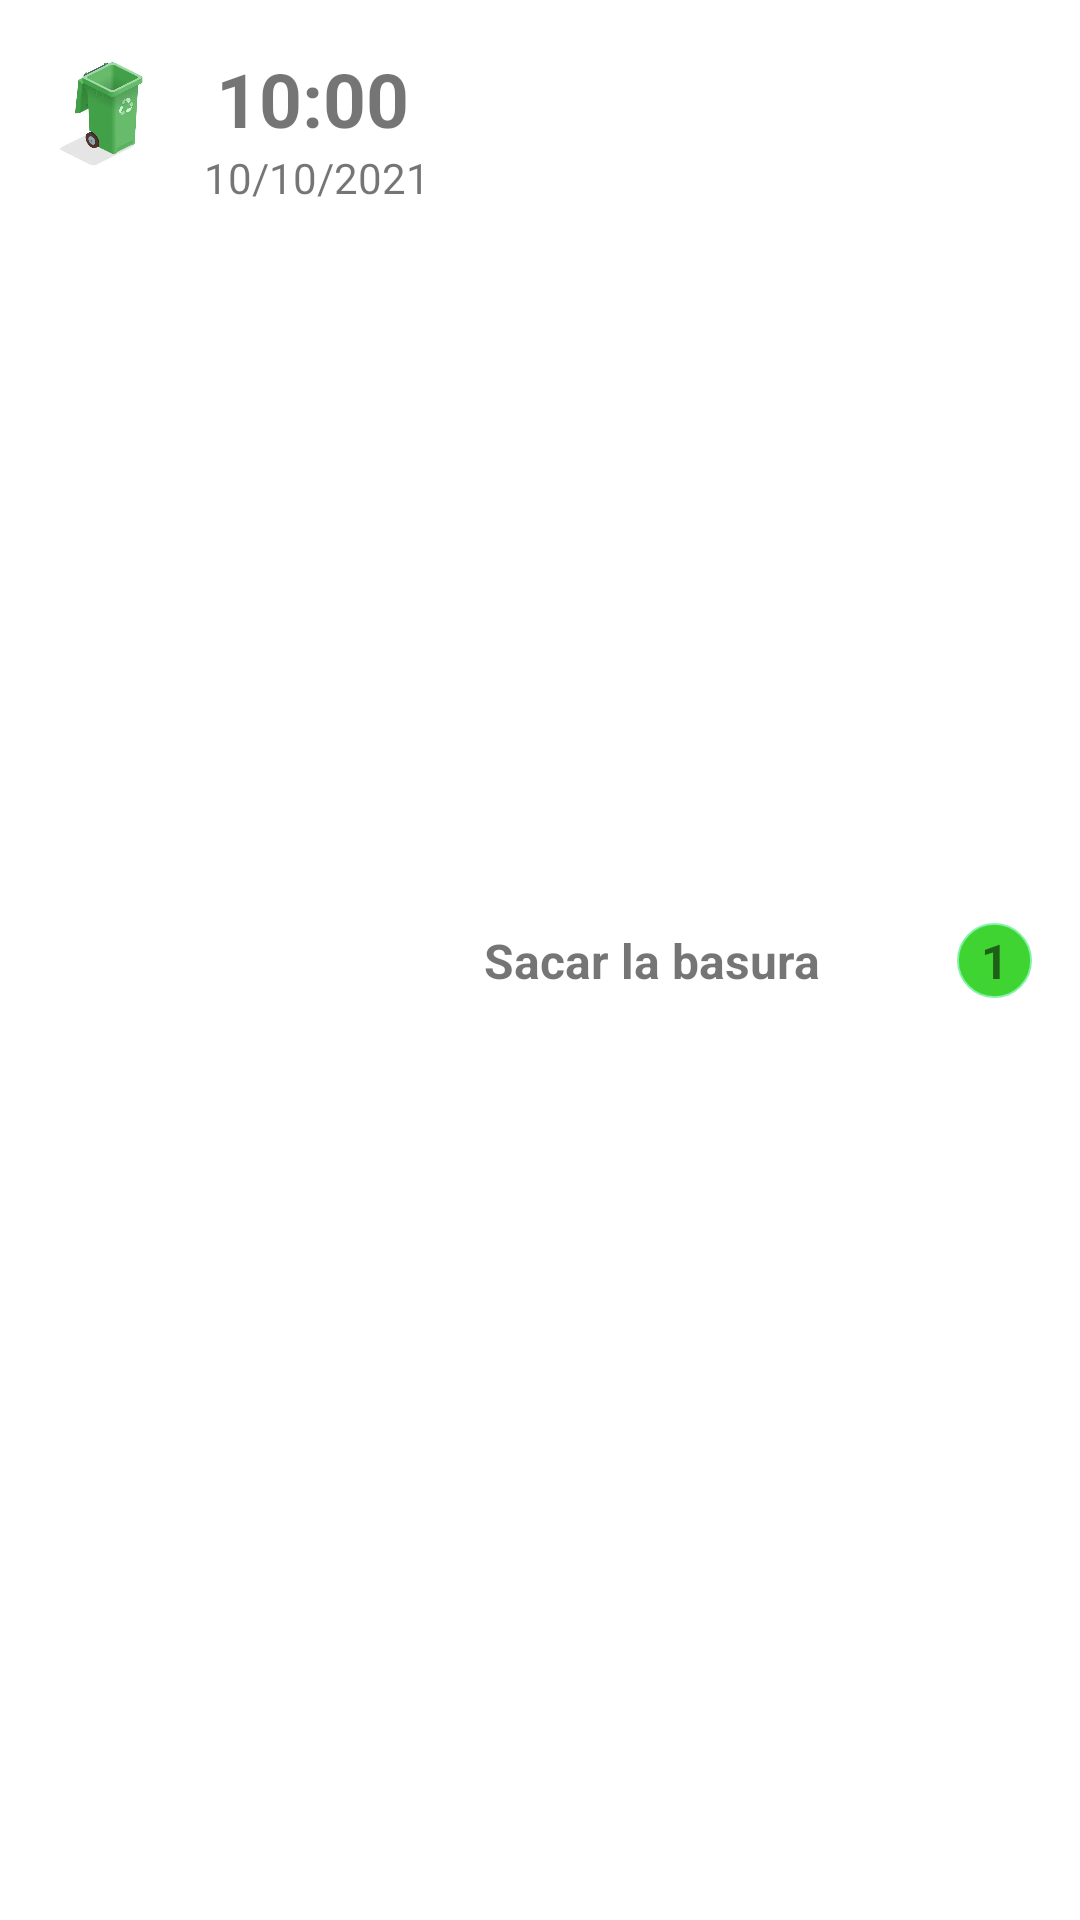

Point at icon controls on the screen. Image size 1080 x 1920, points as [x,y].
circle shape: [994,960]
papelera: [102,113]
